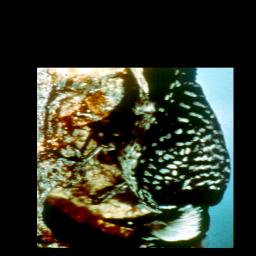Woodpecker: (49, 68, 231, 247)
